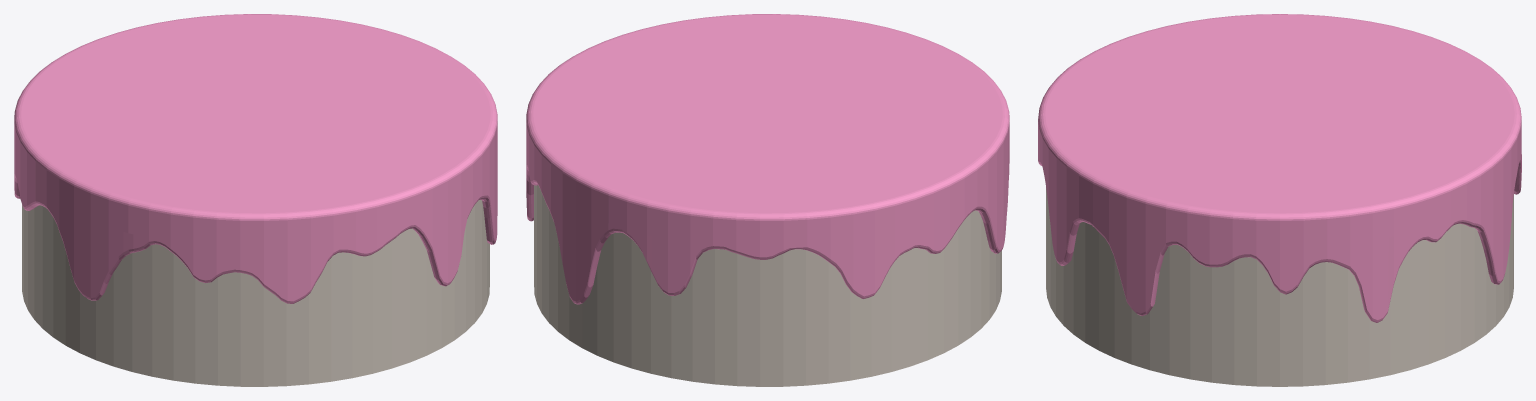
File: syrup1.glb
3 renders of one model, left to right at view 1: azimuth 30°, elevation 25°; view 2: azimuth 150°, elevation 25°; view 3: azimuth 270°, elevation 25°, orthographic.
Visible parts, largest first — view 1: Cylinder; view 2: Cylinder; view 3: Cylinder.
Boxes of the visible parts, box(x1,y1,x2,y2) form: Cylinder: box(14, 14, 497, 386); Cylinder: box(526, 14, 1009, 386); Cylinder: box(1038, 14, 1521, 386).
Bounding box in the file's own units: 11.44 × 4.54 × 11.44.
